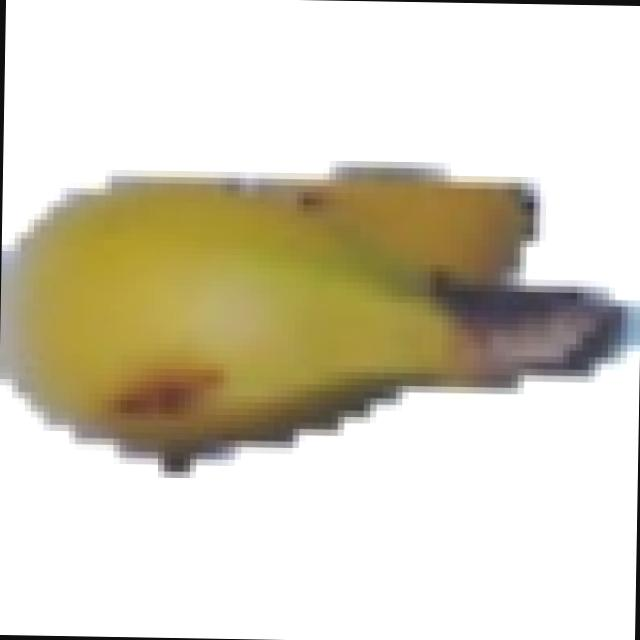banana_pacche: (5, 6, 640, 595)
